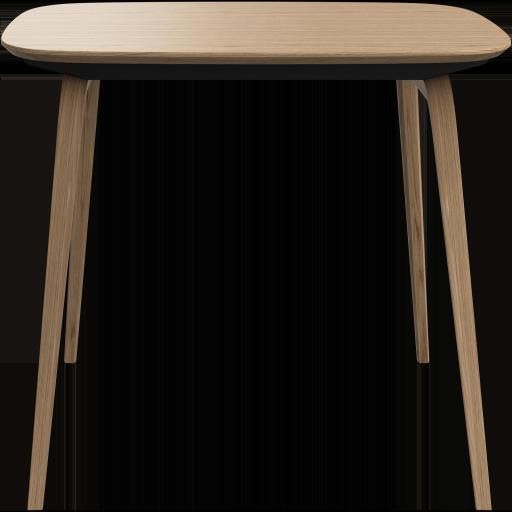table: (2, 4, 511, 511)
